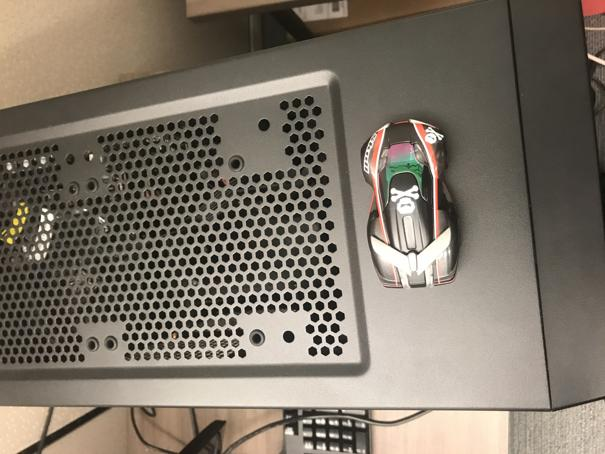Skull: (361, 118, 463, 290)
